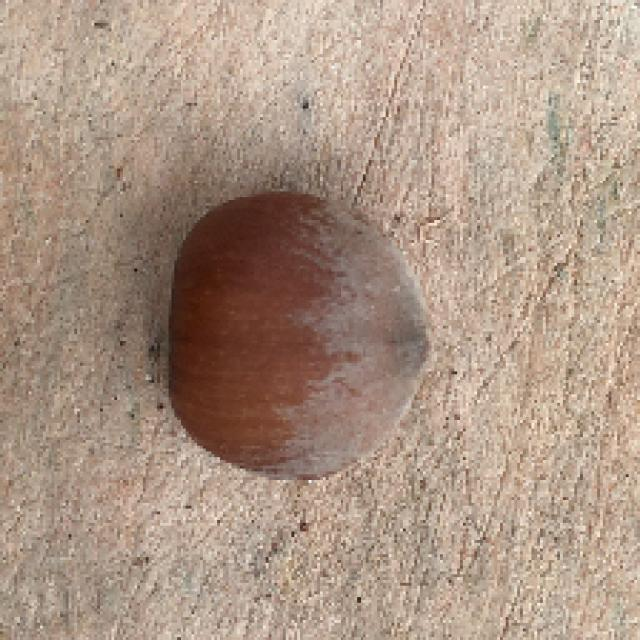qualityHazelnut: (169, 178, 437, 496)
